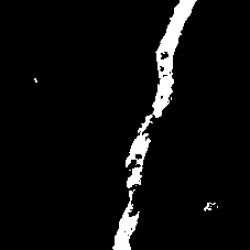crack: (112, 2, 197, 247), (203, 199, 220, 212)
pinhole: (31, 76, 42, 87)
